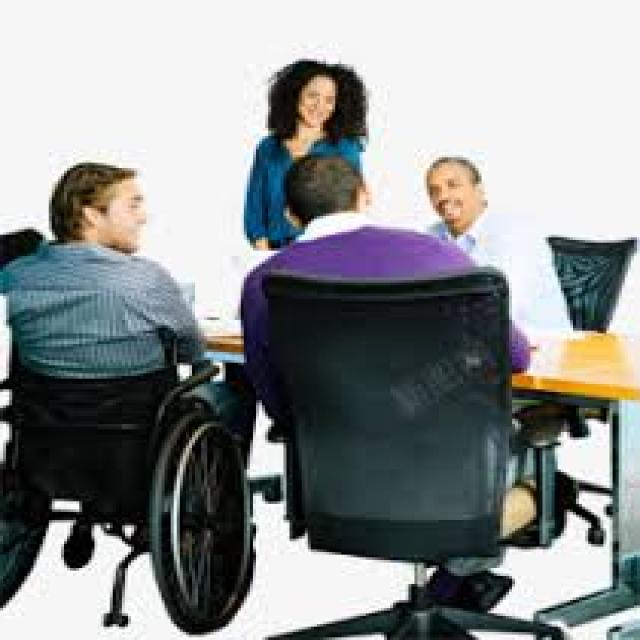wheelchairs: (0, 227, 259, 637)
